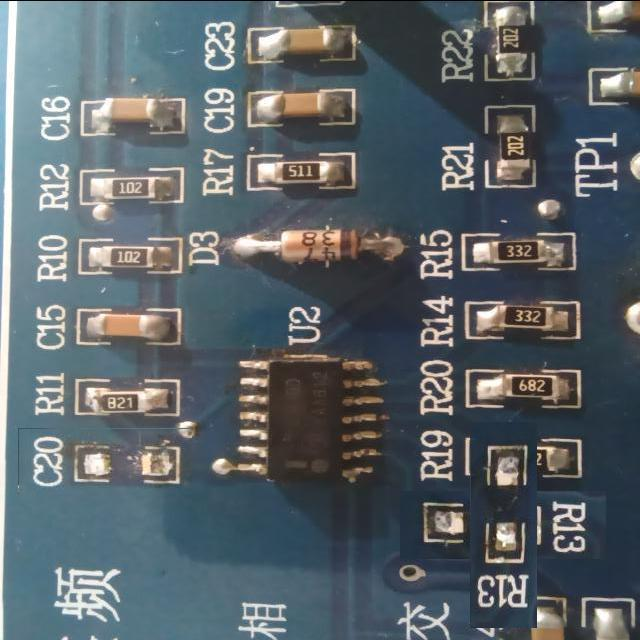miss_welding: (434, 457, 572, 594), (18, 428, 192, 494)
